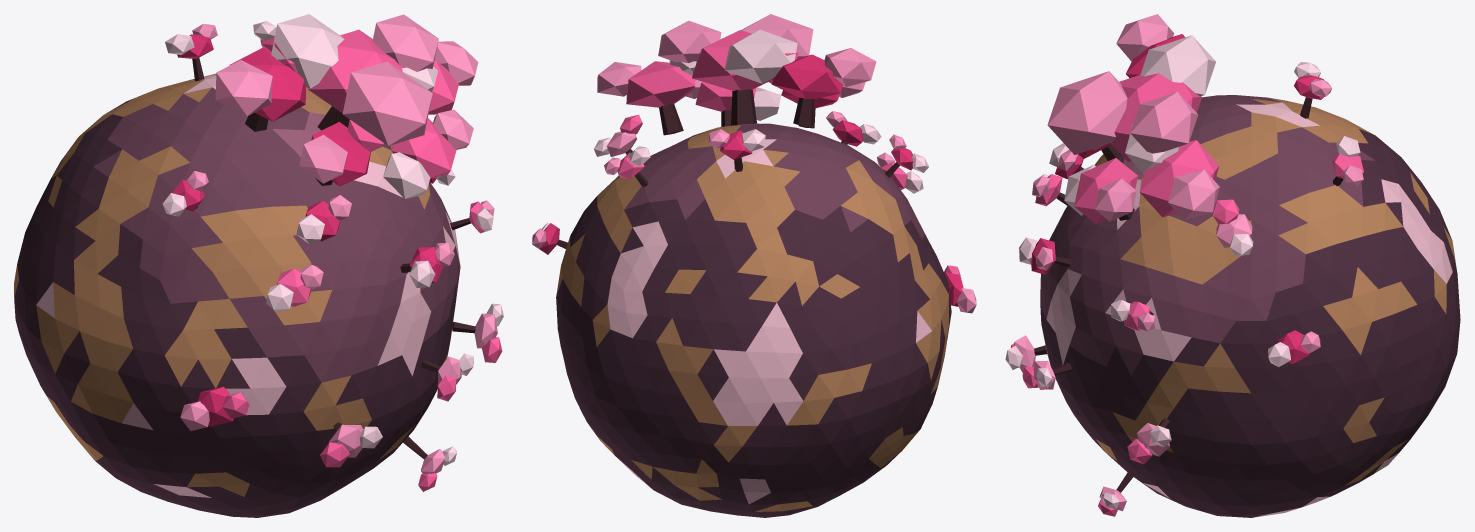
Rendered from Sakura_06.fbx.
3 renders of one model, left to right at view 1: azimuth 30°, elevation 25°; view 2: azimuth 150°, elevation 25°; view 3: azimuth 270°, elevation 25°, orthographic. The views are drawn at different scales.
Visible parts, largest first — view 1: Sakura_06; view 2: Sakura_06; view 3: Sakura_06.
Boxes of the visible parts, bbox=[...] form: Sakura_06: bbox=[14, 14, 503, 517]; Sakura_06: bbox=[532, 14, 976, 517]; Sakura_06: bbox=[1005, 14, 1460, 517].
Bounding box in the file's own units: 6.61 × 7.33 × 6.51.
Materials: 1 (1 with a texture image).
